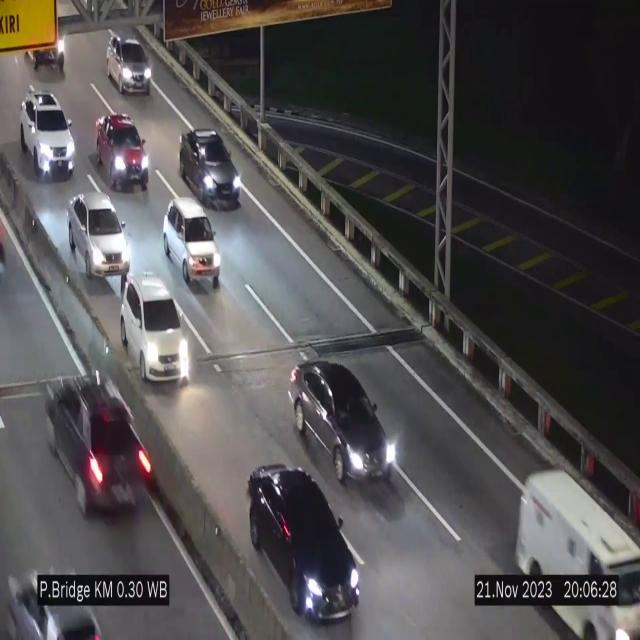Car: (506, 445, 640, 640), (248, 466, 360, 628), (44, 356, 148, 516), (283, 362, 397, 490), (120, 262, 191, 382), (65, 186, 130, 281), (163, 198, 220, 288), (20, 91, 75, 178), (179, 129, 241, 205), (96, 113, 150, 191), (103, 32, 153, 90)
